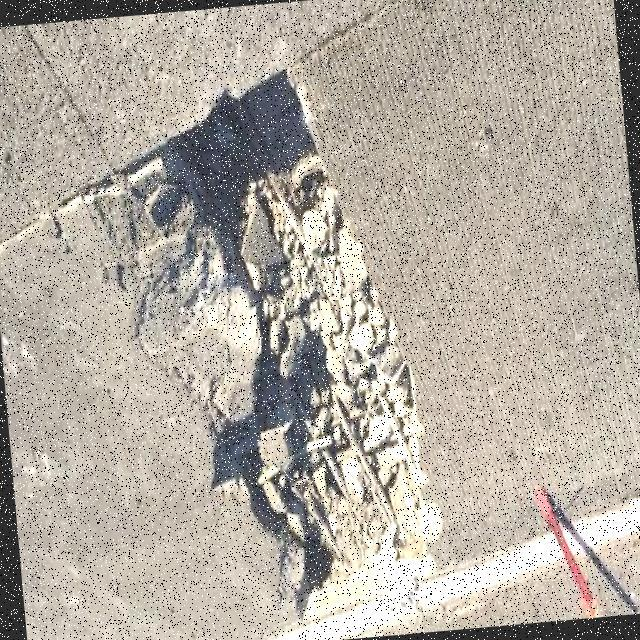Pothole: (158, 67, 425, 616)
